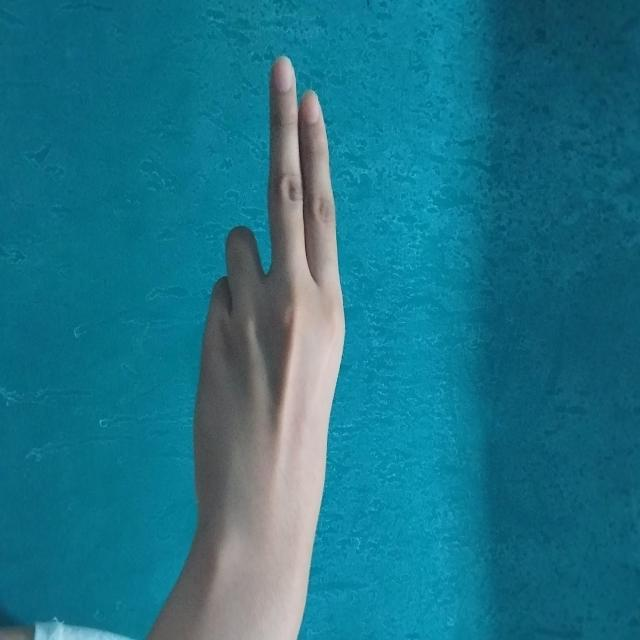H: (49, 295, 493, 448)
